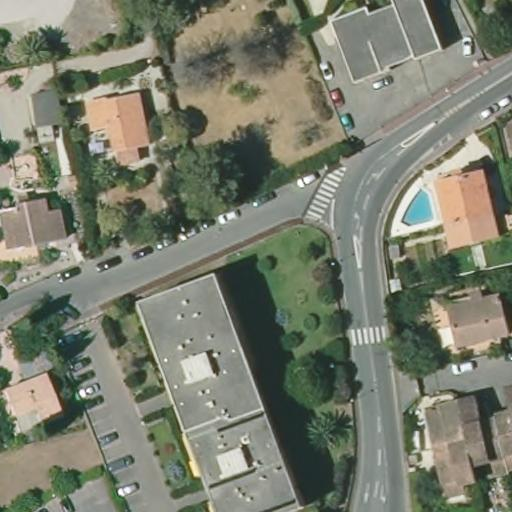pool: (400, 185, 441, 233)
